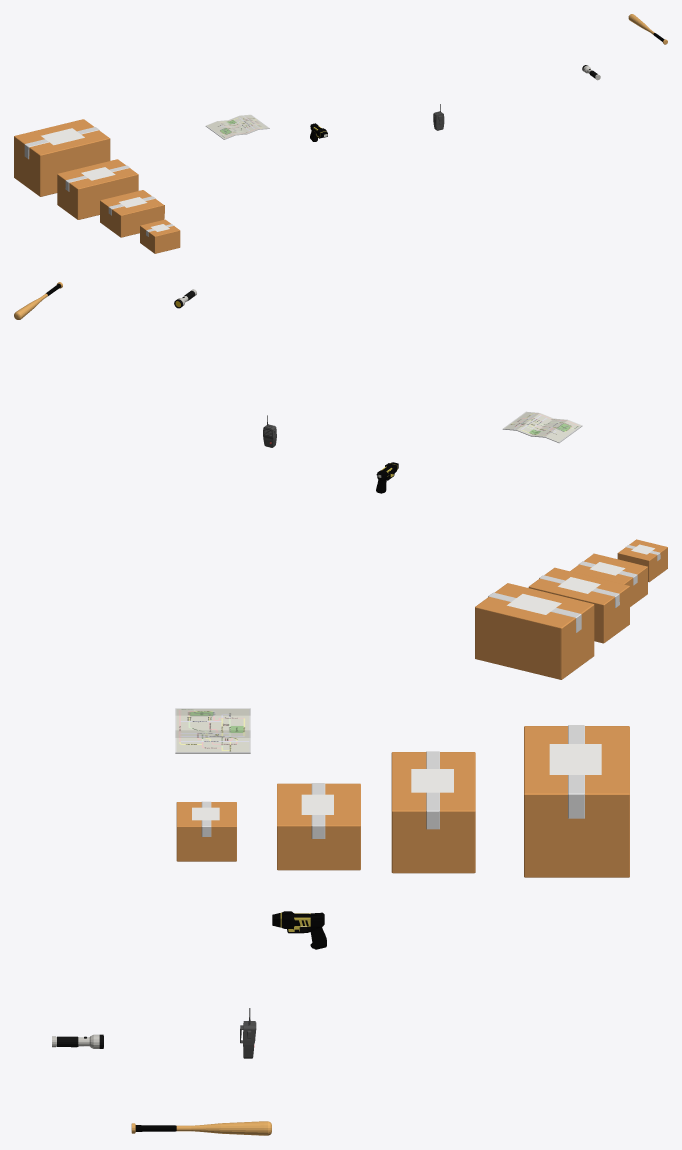
Rendered from GameItems.fbx.
The picture shows the model from 3 angles, top to bottom: view 1: azimuth 30°, elevation 25°; view 2: azimuth 150°, elevation 25°; view 3: azimuth 270°, elevation 25°; orthographic projection. The views are drawn at different scales.
Parts seen in each view (by area): view 1: Package.002, Package, Package.001, Package.003, Map, Postit.002; view 2: Package.002, Package, Package.001, Map, Package.003, Postit.002; view 3: Package.002, Package, Package.001, Map, Package.003, Postit.002, Bat, Taser, Postit, Postit.001.
Part boxes in pixels (<box>): Package.002: <box>14,119,110,196</box>; Package: <box>57,159,138,219</box>; Package.001: <box>100,190,164,237</box>; Package.003: <box>140,219,180,253</box>; Map: <box>205,114,269,139</box>; Postit.002: <box>41,128,84,145</box>; Package.002: <box>475,583,594,679</box>; Package: <box>528,567,629,643</box>; Package.001: <box>570,553,647,606</box>; Map: <box>502,411,582,443</box>; Package.003: <box>617,539,667,582</box>; Postit.002: <box>507,594,561,614</box>; Package.002: <box>524,725,629,877</box>; Package: <box>391,751,475,873</box>; Package.001: <box>277,783,360,870</box>; Map: <box>175,708,250,753</box>; Package.003: <box>176,801,236,861</box>; Postit.002: <box>549,744,601,774</box>; Bat: <box>131,1121,271,1135</box>; Taser: <box>272,911,326,949</box>; Postit: <box>411,769,453,792</box>; Postit.001: <box>301,794,333,814</box>.
Bounding box in the file's own units: 14.68 × 2.69 × 6.92.
16 materials, 1 textured.
